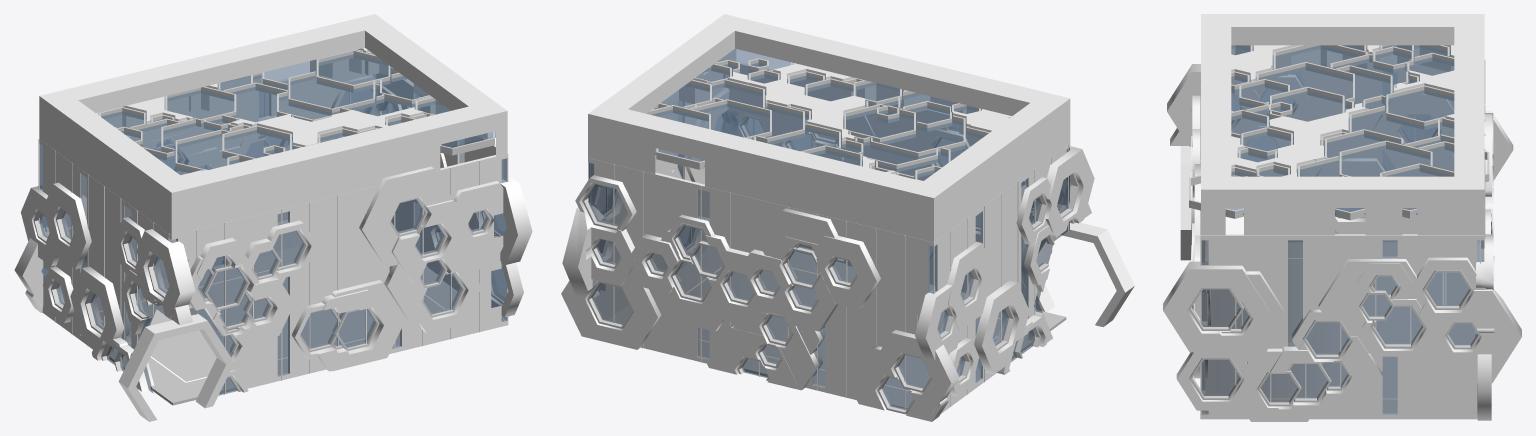
The model's file is VR Building 01.glb.
3 views of the same model, side by side, from view 1: azimuth 30°, elevation 25°; view 2: azimuth 150°, elevation 25°; view 3: azimuth 270°, elevation 25° (orthographic). The views are drawn at different scales.
Parts seen in each view (by area): view 1: Object_26, Object_17, Object_6, Object_9; view 2: Object_26, Object_17, Object_6, Object_9; view 3: Object_26, Object_17, Object_6, Object_9.
Boxes of the visible parts, x1,y1,x2,y2 form: Object_26: (14,14,532,421); Object_17: (40,54,506,395); Object_6: (33,49,504,391); Object_9: (96,246,457,405); Object_26: (561,14,1134,421); Object_17: (588,48,1069,409); Object_6: (582,58,1079,414); Object_9: (608,247,1066,408); Object_26: (1163,14,1521,421); Object_17: (1201,45,1484,414); Object_6: (1188,45,1489,406); Object_9: (1205,242,1477,413).
Size of the model in its own units: 503 by 250 by 354.
